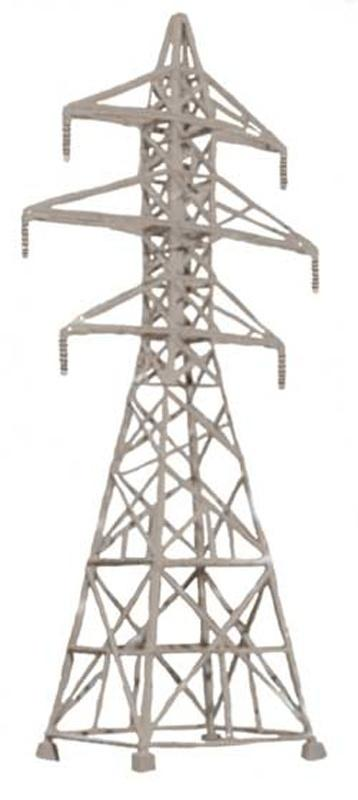power_tower: (5, 4, 350, 770)
